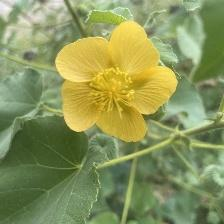indian mallow: (57, 20, 183, 146)
